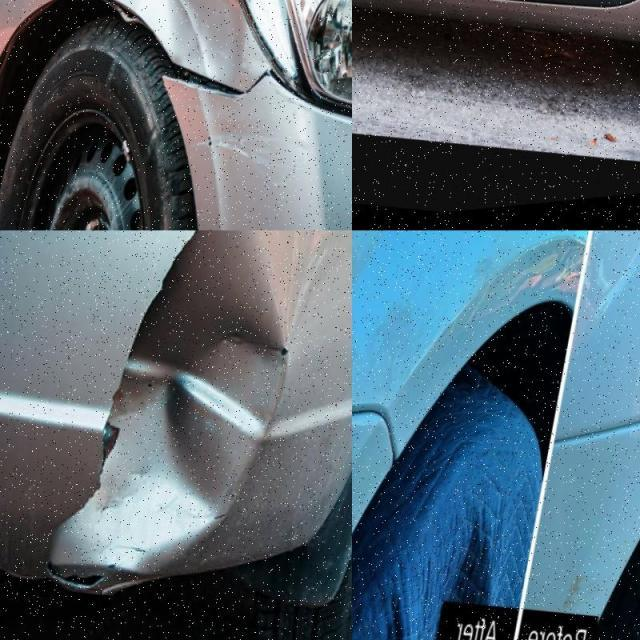car damage: (49, 226, 291, 592), (169, 0, 247, 84)
